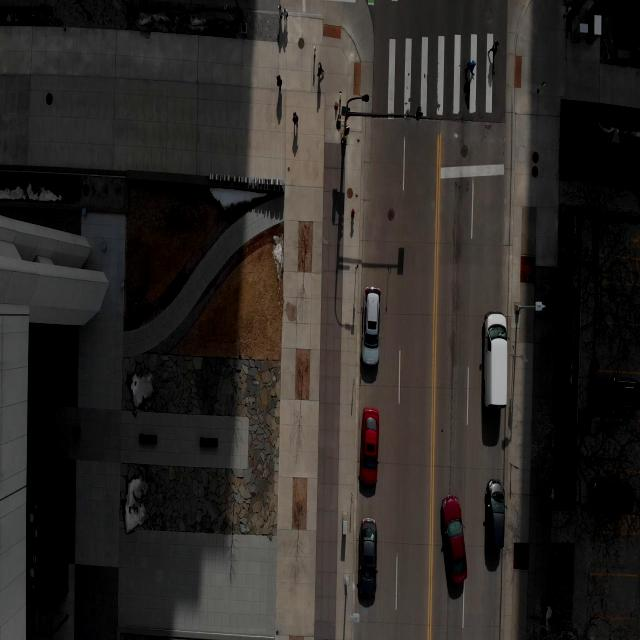Car: (441, 496, 468, 584), (592, 370, 640, 411), (484, 478, 507, 550), (358, 518, 378, 600), (359, 406, 380, 483), (589, 478, 635, 513), (361, 286, 381, 365)
Van: (475, 303, 518, 418)
